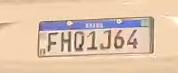Placa_mercosul_carro: (38, 17, 153, 57)
